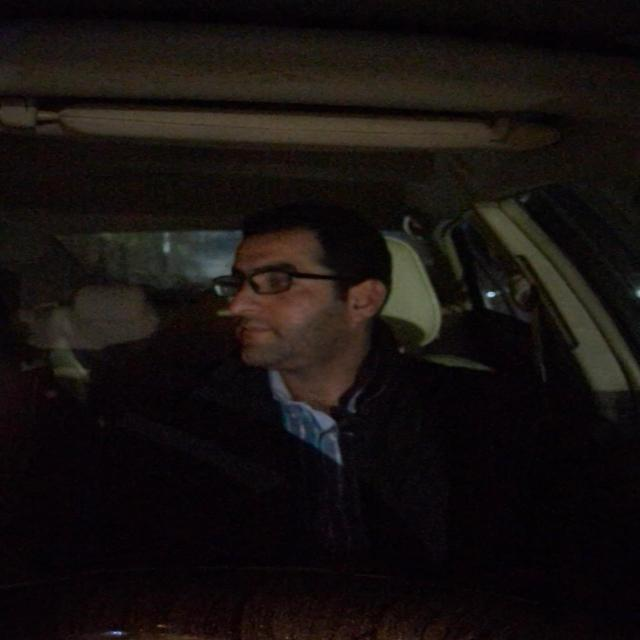LeftRight: (215, 201, 399, 374)
